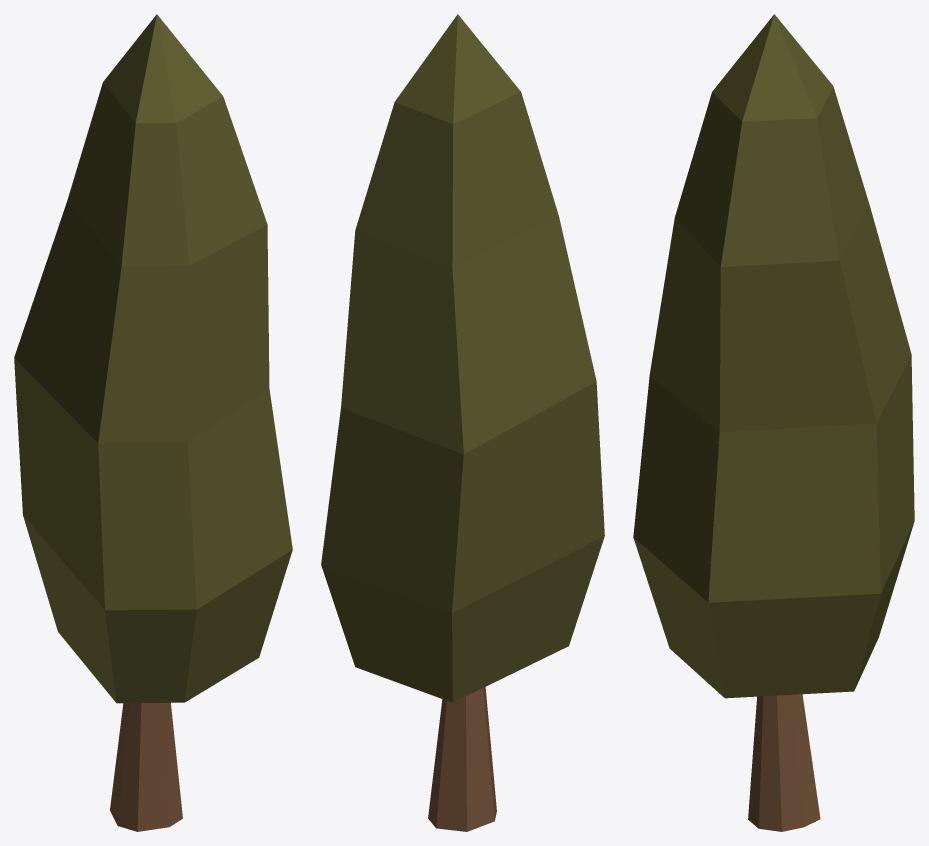
The model's file is Isl_6_Tree_3.fbx.
3 views of the same model, side by side, from view 1: azimuth 30°, elevation 25°; view 2: azimuth 150°, elevation 25°; view 3: azimuth 270°, elevation 25° (orthographic).
Visible parts, largest first — view 1: Isl_6_Tree_3; view 2: Isl_6_Tree_3; view 3: Isl_6_Tree_3.
Part boxes in pixels (x1,y1,x2,y2): Isl_6_Tree_3: [14, 14, 292, 831]; Isl_6_Tree_3: [321, 14, 604, 831]; Isl_6_Tree_3: [633, 14, 914, 831].
Size of the model in its own units: 125 by 150 by 474.
Materials: 1 (1 with a texture image).
